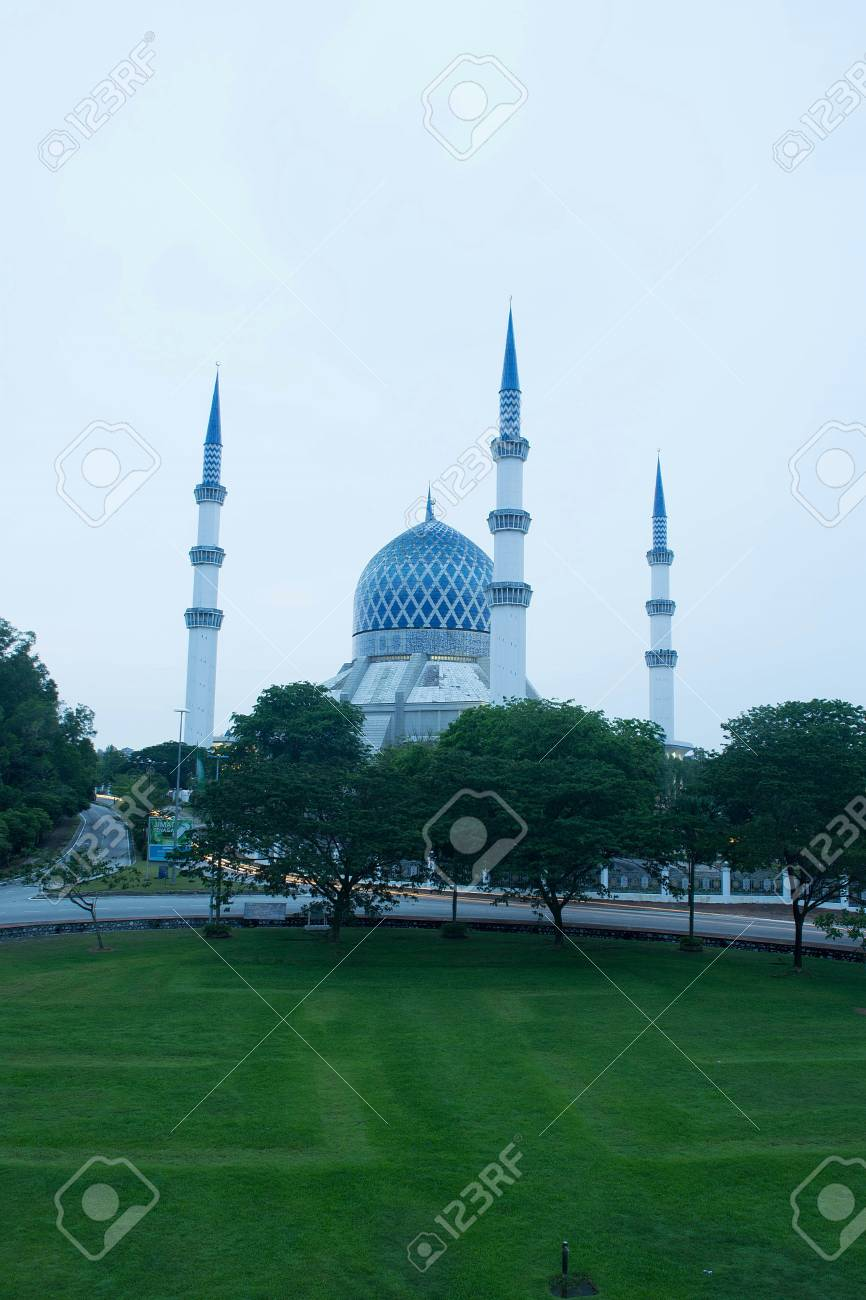Mosque: (165, 320, 698, 731)
